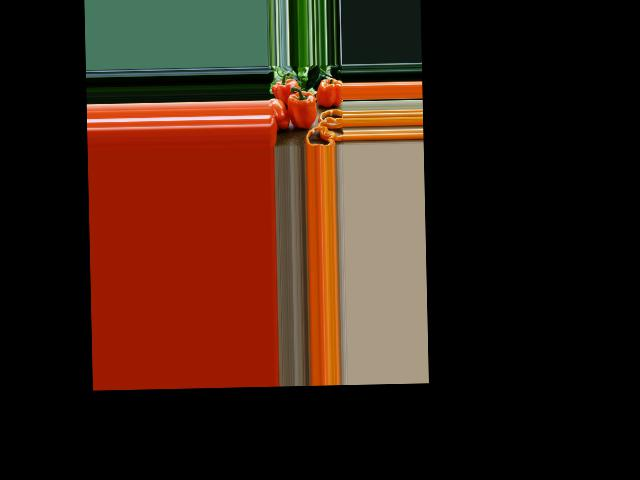bell_pepper: (269, 97, 289, 132)
